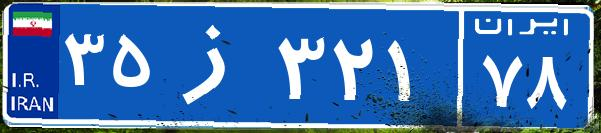1: (385, 28, 445, 110)
2: (330, 28, 385, 110)
3: (273, 28, 330, 110), (57, 26, 110, 107)
5: (110, 28, 158, 105)
7: (475, 38, 525, 113)
8: (525, 38, 570, 115)
ز: (158, 15, 273, 115)
